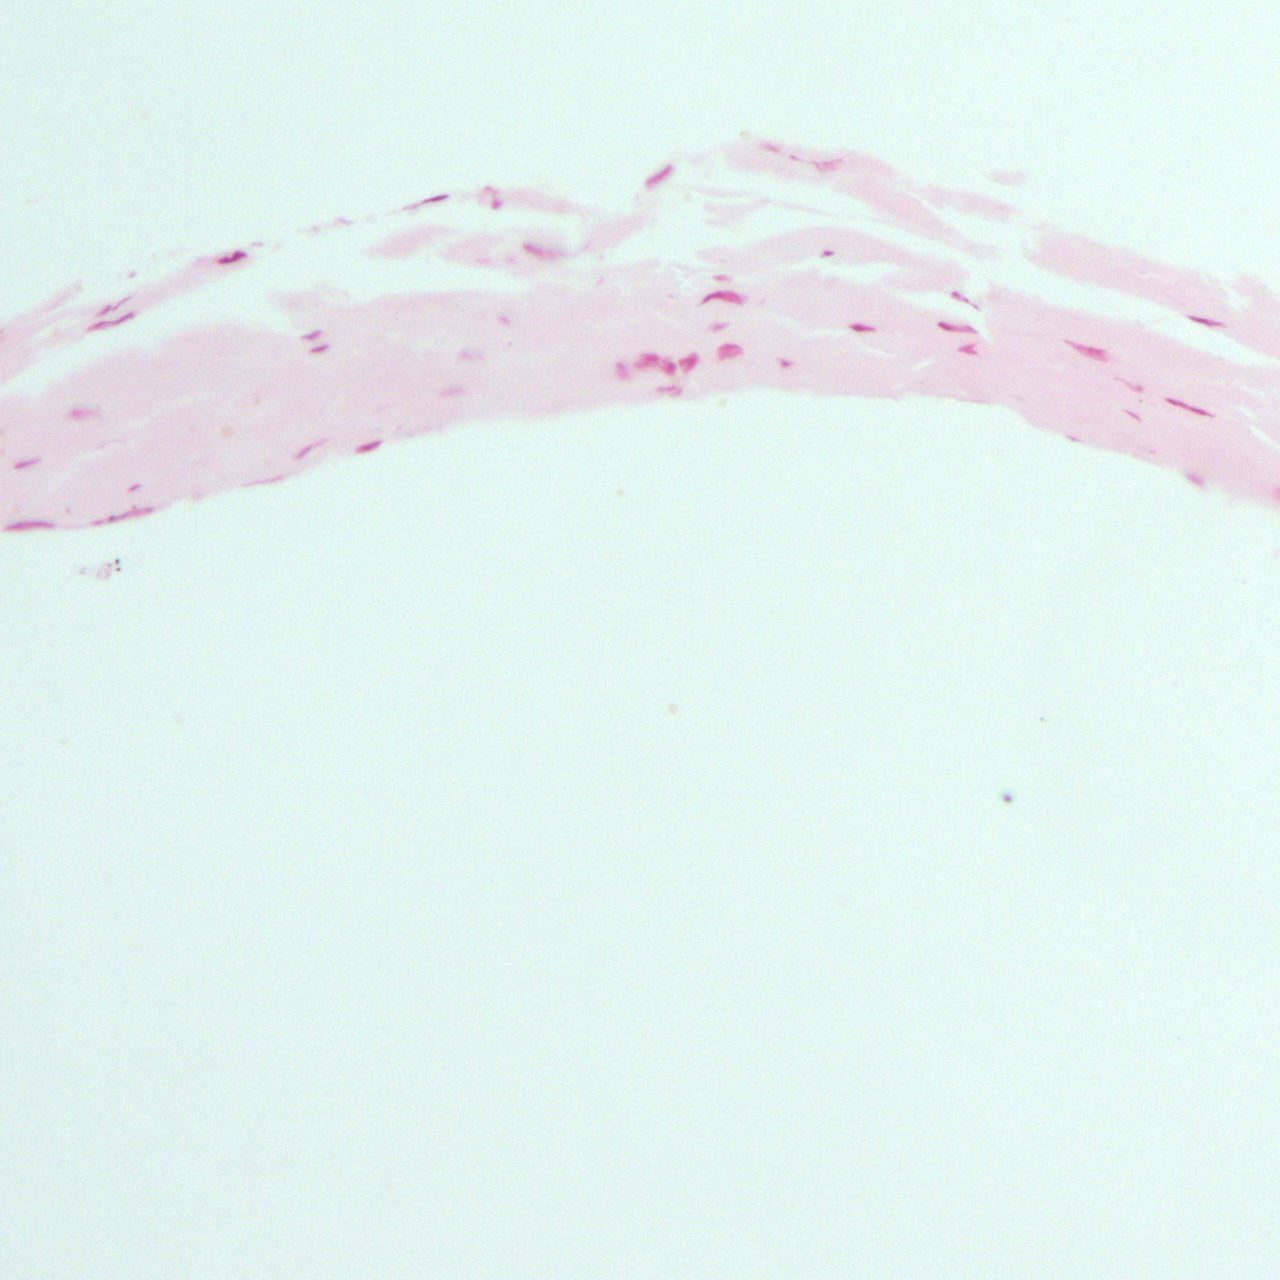dust: (1003, 793, 1010, 802)
nucleus-AC: (86, 305, 140, 337), (1062, 334, 1110, 364), (92, 505, 151, 526), (1166, 395, 1214, 420), (642, 161, 678, 191), (403, 190, 451, 212), (95, 293, 136, 318), (1186, 311, 1226, 333), (291, 437, 327, 461), (521, 238, 555, 262), (213, 247, 250, 268), (950, 288, 980, 310), (1114, 373, 1143, 394), (353, 438, 386, 456), (1184, 470, 1210, 491), (9, 454, 41, 471), (700, 291, 744, 303), (437, 383, 465, 401), (5, 522, 58, 530), (938, 322, 975, 333), (718, 344, 744, 359), (299, 328, 324, 343), (1122, 407, 1145, 423), (678, 354, 697, 373), (636, 354, 660, 369), (308, 342, 330, 357), (811, 160, 840, 171), (761, 140, 782, 155), (707, 320, 730, 333), (250, 475, 281, 484), (70, 407, 94, 418), (459, 353, 487, 362), (663, 359, 677, 375), (615, 364, 631, 377), (850, 324, 876, 332), (957, 344, 977, 354), (127, 481, 143, 493), (659, 387, 682, 395), (1064, 434, 1081, 444), (777, 358, 794, 368), (490, 198, 503, 210), (712, 275, 732, 281), (497, 317, 510, 326), (788, 153, 800, 162), (820, 250, 834, 255)
